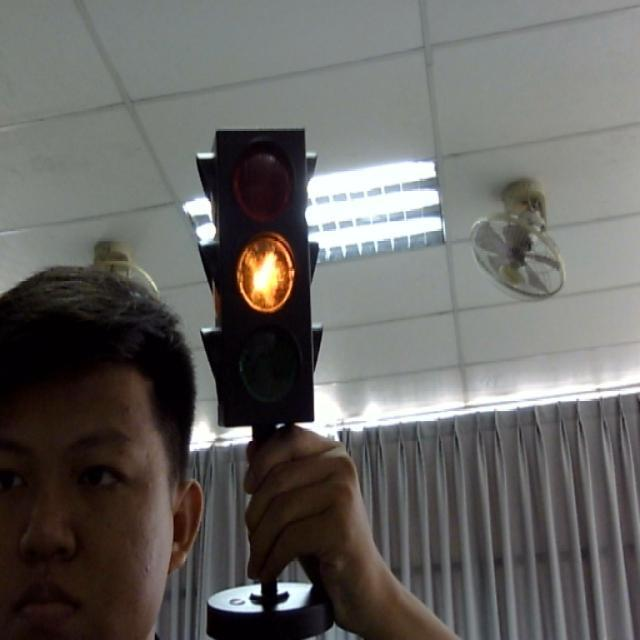yellow_light: (198, 113, 328, 429)
